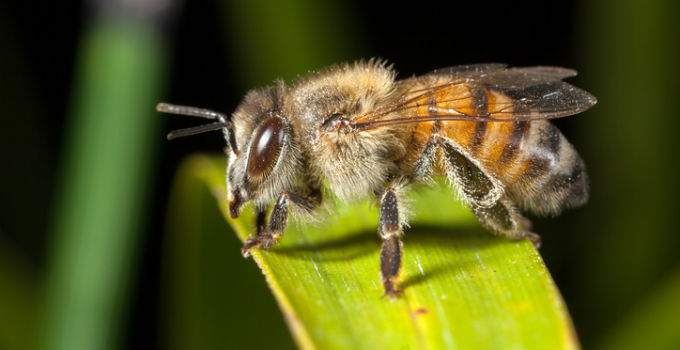Africanized Honey Bee: (146, 33, 607, 305)
